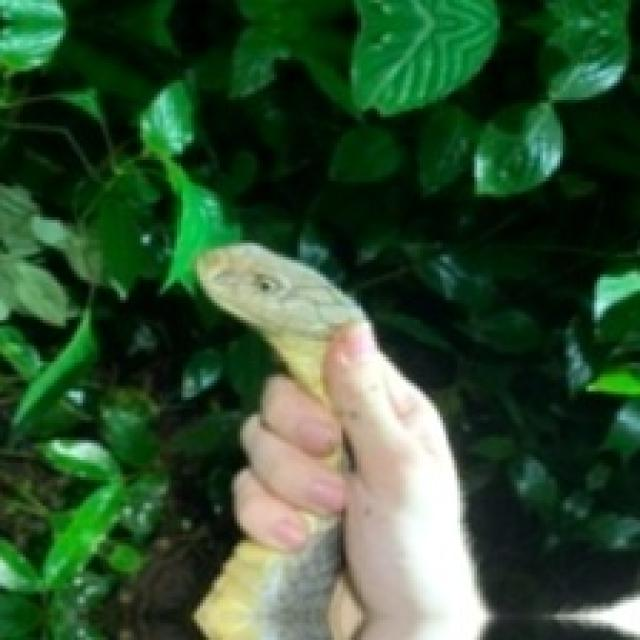king cobra: (197, 243, 363, 406), (194, 511, 360, 637)
